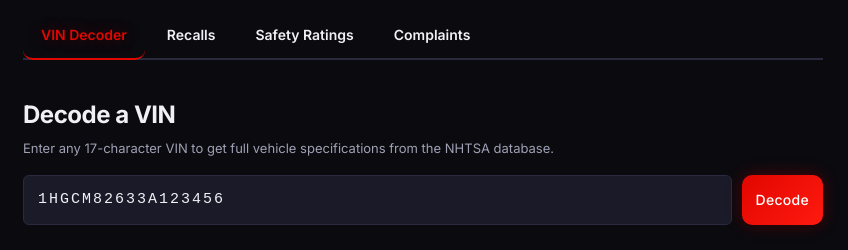
it: VehicleLookup component › clicking Safety Ratings tab shows check button
Click the button "Safety Ratings" at (305, 36), box top-left (238, 12), bottom-right (372, 60)
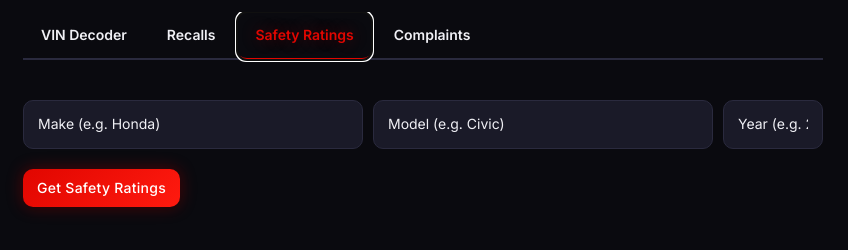
Check: the button "Get Safety Ratings" is shown, box top-left (23, 169), bottom-right (180, 207)
